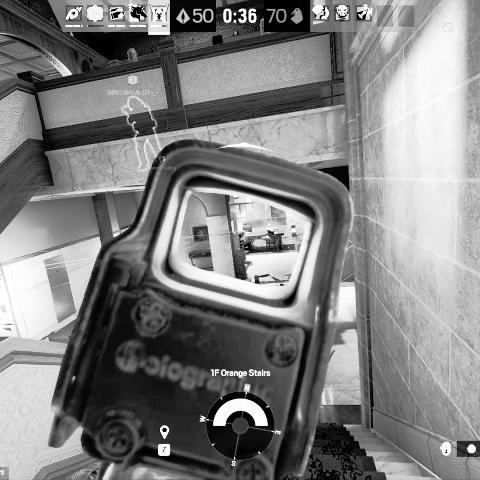Character: (238, 229, 248, 261)
Friend_label: (106, 72, 160, 97)
Head: (239, 229, 245, 238)
